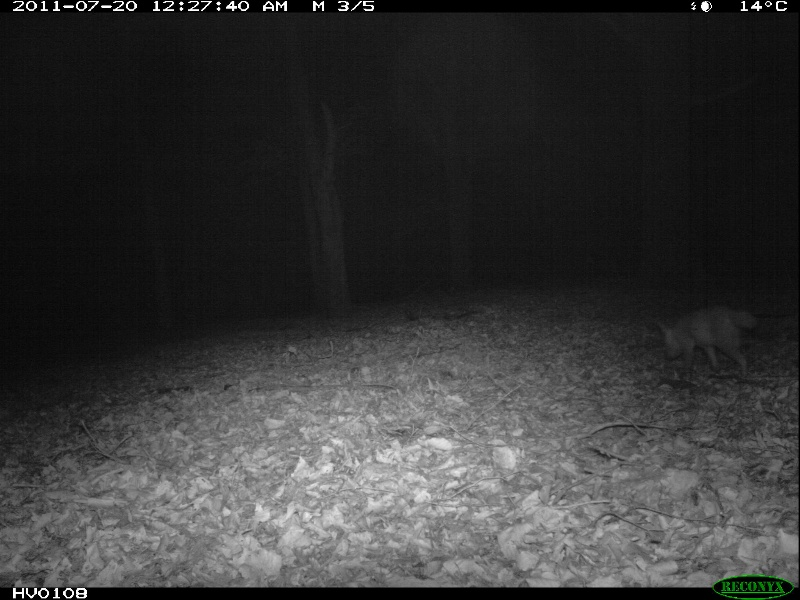fox: (656, 300, 762, 390)
